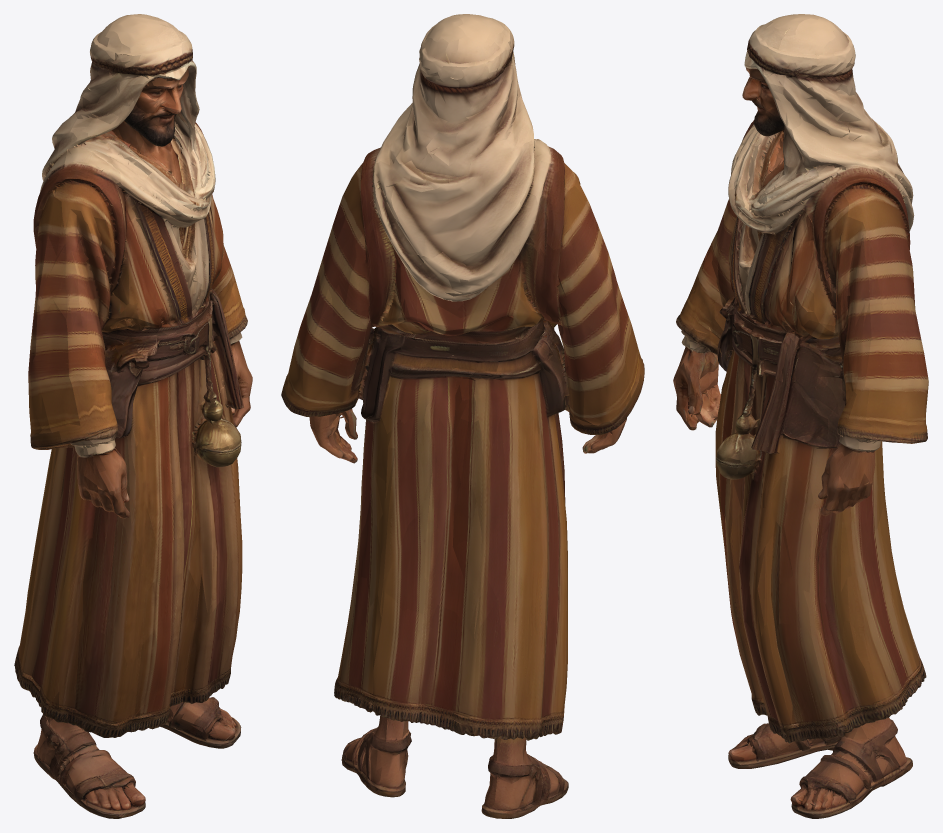
Rendered from traveler-passing.glb.
3 views of the same model, side by side, from view 1: azimuth 30°, elevation 25°; view 2: azimuth 150°, elevation 25°; view 3: azimuth 270°, elevation 25° (orthographic). The views are drawn at different scales.
Parts seen in each view (by area): view 1: traveler; view 2: traveler; view 3: traveler.
Part boxes in pixels (<box>): traveler: <box>14,14,252,818</box>; traveler: <box>281,14,644,818</box>; traveler: <box>673,14,928,818</box>.
Size of the model in its own units: 0.6312 by 1.73 by 0.5224.
1 material, 1 textured.
